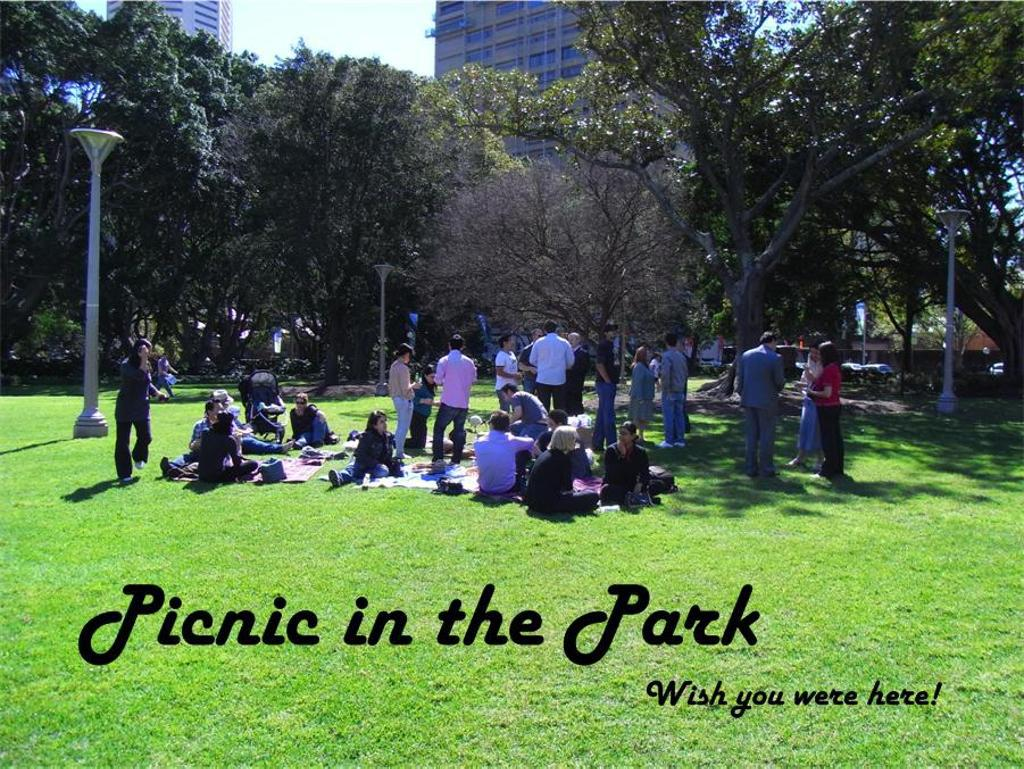face: (210, 403, 225, 419), (378, 417, 388, 434), (621, 429, 633, 443), (503, 390, 514, 402), (534, 333, 544, 346), (142, 347, 151, 361), (488, 415, 496, 430), (811, 349, 821, 361), (568, 336, 578, 348), (570, 434, 577, 451), (549, 420, 558, 433), (428, 373, 437, 385), (608, 327, 617, 339), (297, 397, 305, 410), (405, 352, 412, 364), (505, 341, 512, 350), (645, 350, 651, 360)
